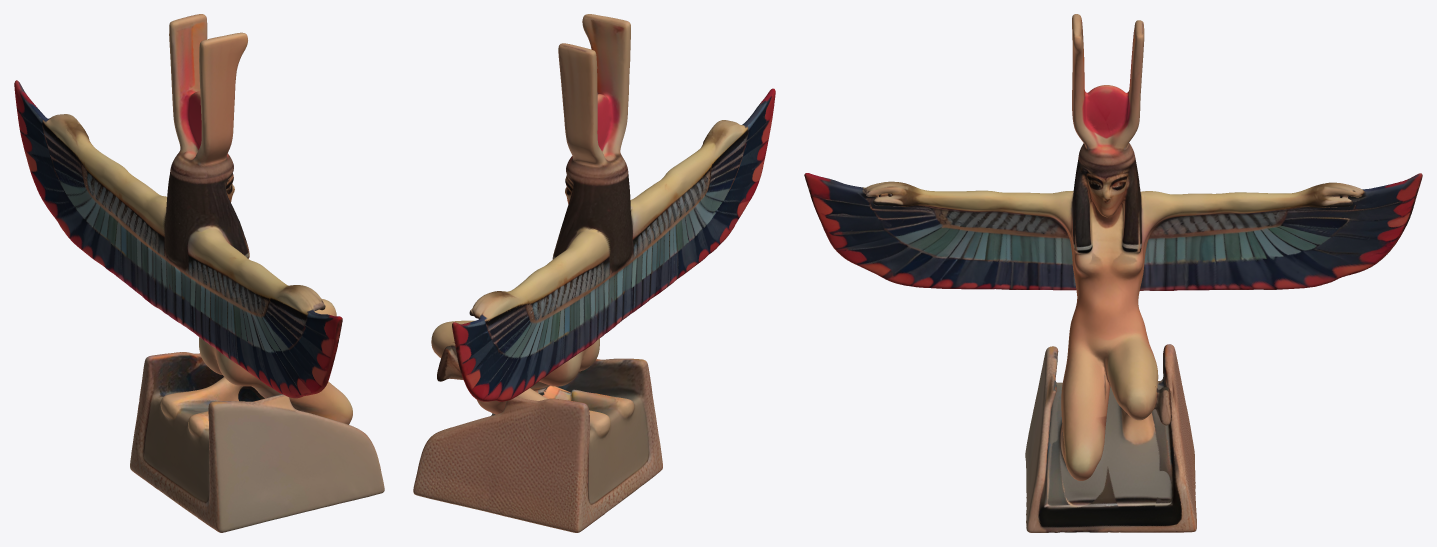
The model's file is statuette_isis.glb.
The picture shows the model from 3 angles, left to right: view 1: azimuth 30°, elevation 25°; view 2: azimuth 150°, elevation 25°; view 3: azimuth 270°, elevation 25°; orthographic projection. The views are drawn at different scales.
Parts seen in each view (by area): view 1: tripo_node_a9cfe77e-d0ee-4f12-88d0-162edeaf8005_0; view 2: tripo_node_a9cfe77e-d0ee-4f12-88d0-162edeaf8005_0; view 3: tripo_node_a9cfe77e-d0ee-4f12-88d0-162edeaf8005_0.
Boxes of the visible parts, bbox=[...] form: tripo_node_a9cfe77e-d0ee-4f12-88d0-162edeaf8005_0: bbox=[14, 14, 384, 532]; tripo_node_a9cfe77e-d0ee-4f12-88d0-162edeaf8005_0: bbox=[413, 14, 775, 532]; tripo_node_a9cfe77e-d0ee-4f12-88d0-162edeaf8005_0: bbox=[804, 14, 1422, 532].
Size of the model in its own units: 0.3007 by 0.7551 by 0.9442.
Materials: 1 (1 with a texture image).
